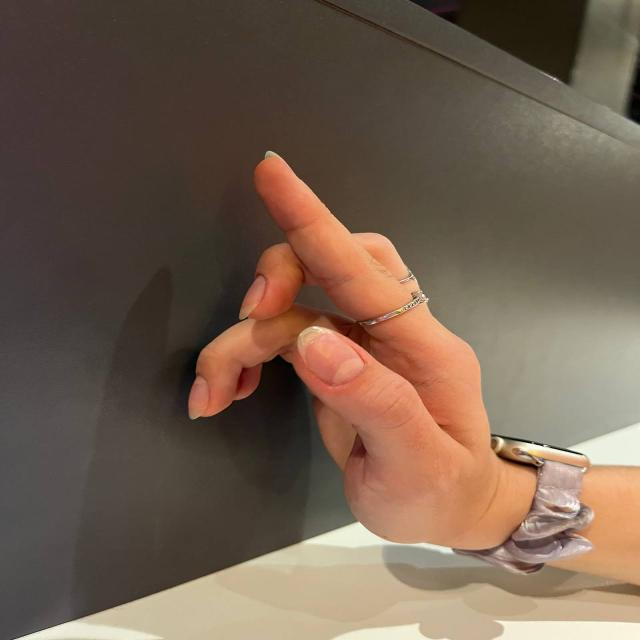b: (155, 128, 498, 585)
